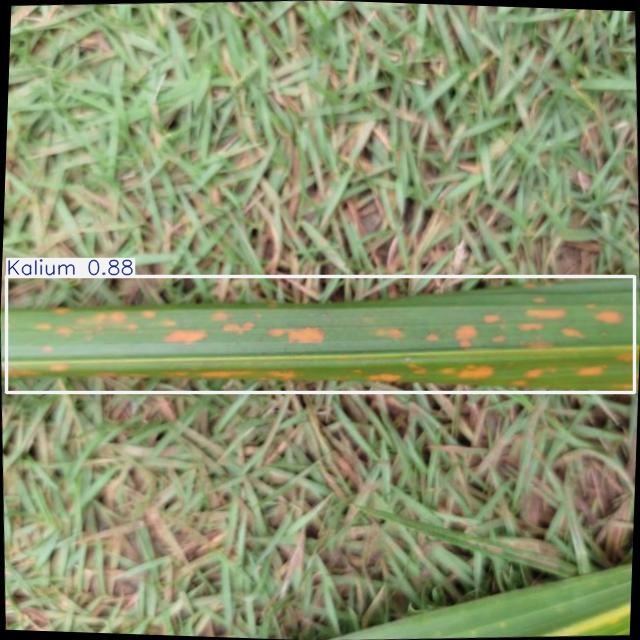Kalium: (6, 277, 635, 393)
